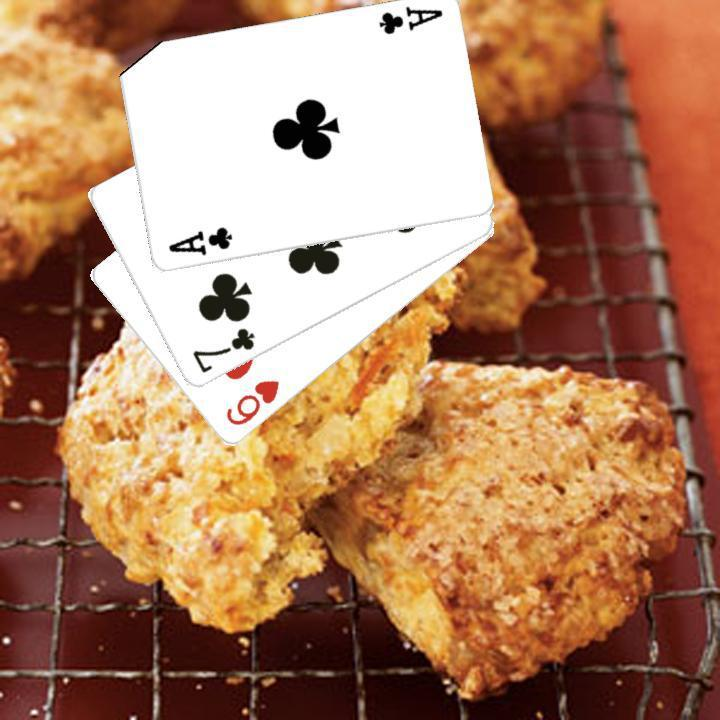6: (221, 376, 282, 429)
7: (188, 324, 257, 376)
A: (373, 2, 444, 37), (164, 223, 234, 258)
